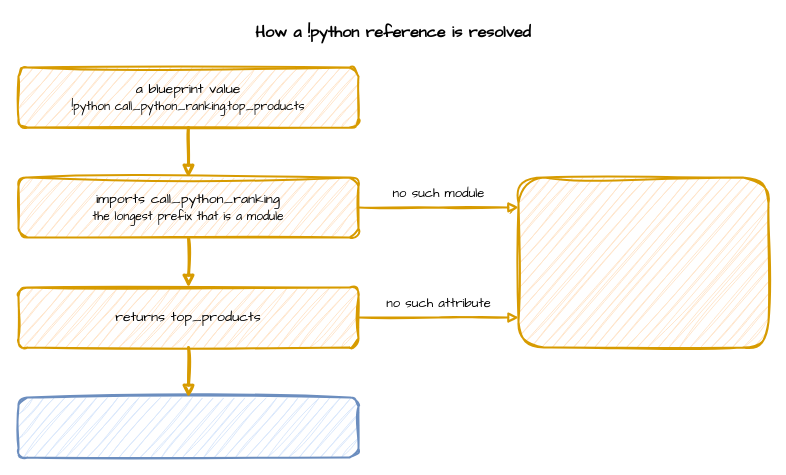
Some shapes in this 786 by 475 pixel diagram are drawn without their labels. Each missing label, with the centre of its shape:
BlueprintError with the file and line of the reference: pixel 643 262
used as a gen: call function or a class built from type: pixel 188 427
